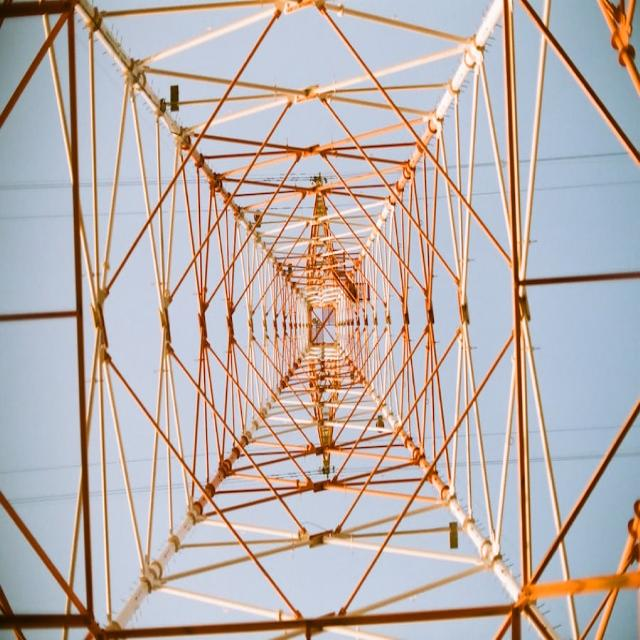transmission tower: (8, 19, 633, 615)
